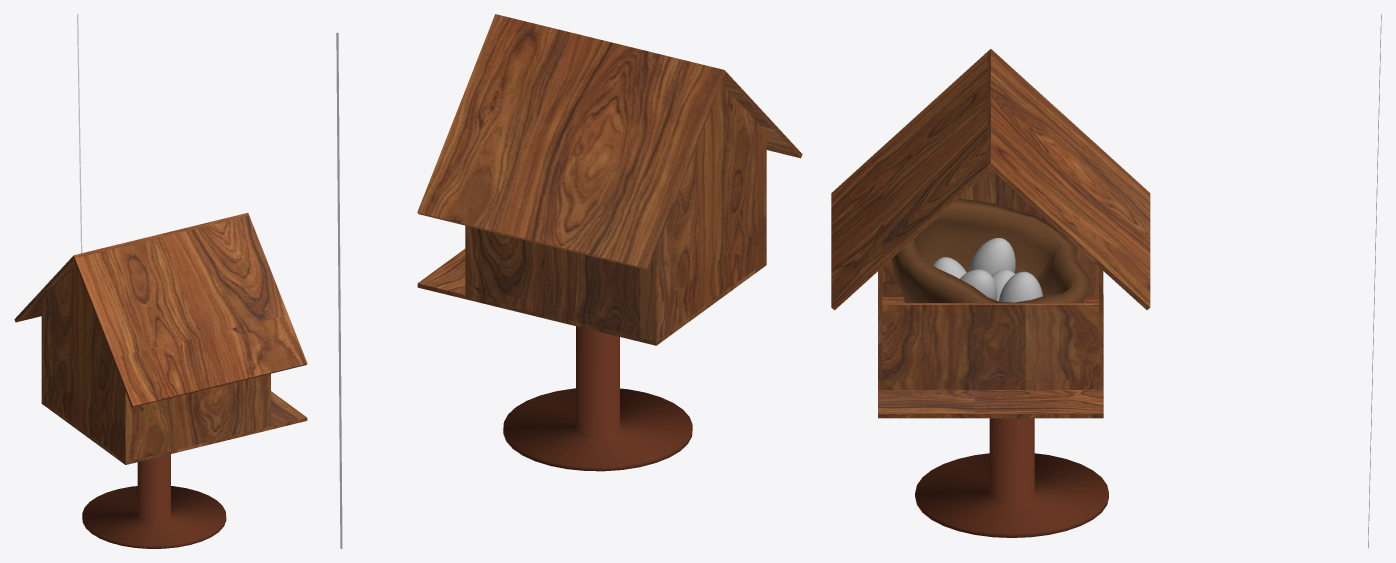
The picture shows the model from 3 angles, left to right: view 1: azimuth 30°, elevation 25°; view 2: azimuth 150°, elevation 25°; view 3: azimuth 270°, elevation 25°; orthographic projection. The views are drawn at different scales.
Parts seen in each view (by area): view 1: Cube.003, Cube.005, Cylinder, Cube.001, Cube, Cube.004, Плоскость; view 2: Cube.004, Cube.005, Cylinder, Cube.002, Cube, Cube.003, Плоскость; view 3: Cube.004, Cube.003, Cube.006, Cylinder, Sphere.001, Cube, Cube.005, Sphere.005, Sphere.004, Cube.002, Sphere.003.
Part boxes in pixels (x1,y1,x2,y2): Cube.003: [74, 216, 307, 407]; Cube.005: [43, 266, 123, 460]; Cylinder: [82, 454, 226, 548]; Cube.001: [124, 373, 270, 461]; Cube: [41, 391, 307, 464]; Cube.004: [14, 213, 249, 322]; Плоскость: [77, 14, 82, 253]; Cube.004: [417, 14, 725, 269]; Cube.005: [658, 84, 764, 339]; Cylinder: [503, 326, 692, 471]; Cube.002: [465, 225, 658, 341]; Cube: [417, 249, 766, 345]; Cube.003: [721, 72, 802, 158]; Плоскость: [336, 32, 342, 548]; Cube.004: [987, 49, 1150, 309]; Cube.003: [831, 52, 990, 310]; Cube.006: [882, 303, 1098, 389]; Cylinder: [915, 418, 1108, 537]; Sphere.001: [892, 198, 1090, 302]; Cube: [878, 295, 1103, 418]; Cube.005: [882, 169, 1098, 296]; Sphere.005: [969, 238, 1015, 274]; Sphere.004: [998, 271, 1042, 302]; Cube.002: [1098, 267, 1103, 389]; Sphere.003: [960, 269, 997, 300].
Bounding box in the file's own units: 16.07 × 31.79 × 29.75.
Materials: 5 (1 with a texture image).
